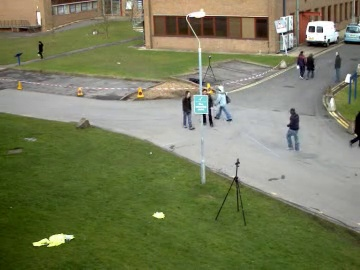person: (181, 87, 195, 130), (181, 89, 195, 130), (180, 88, 194, 128)
